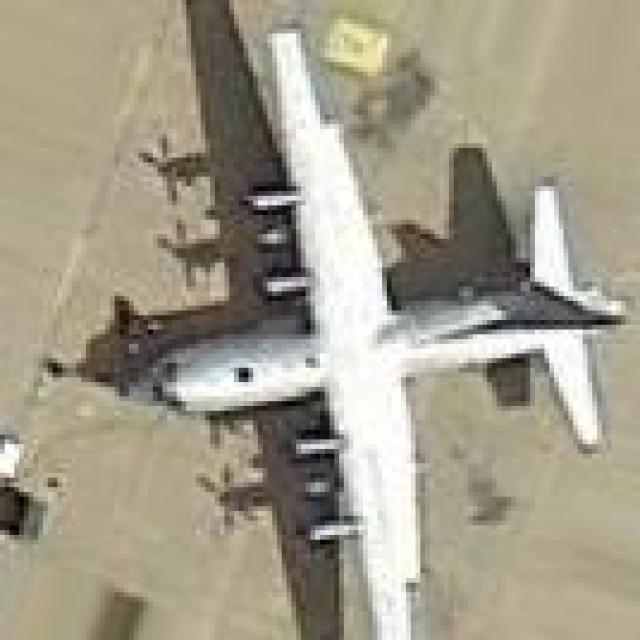C-130_TopDown: (79, 0, 629, 640)
